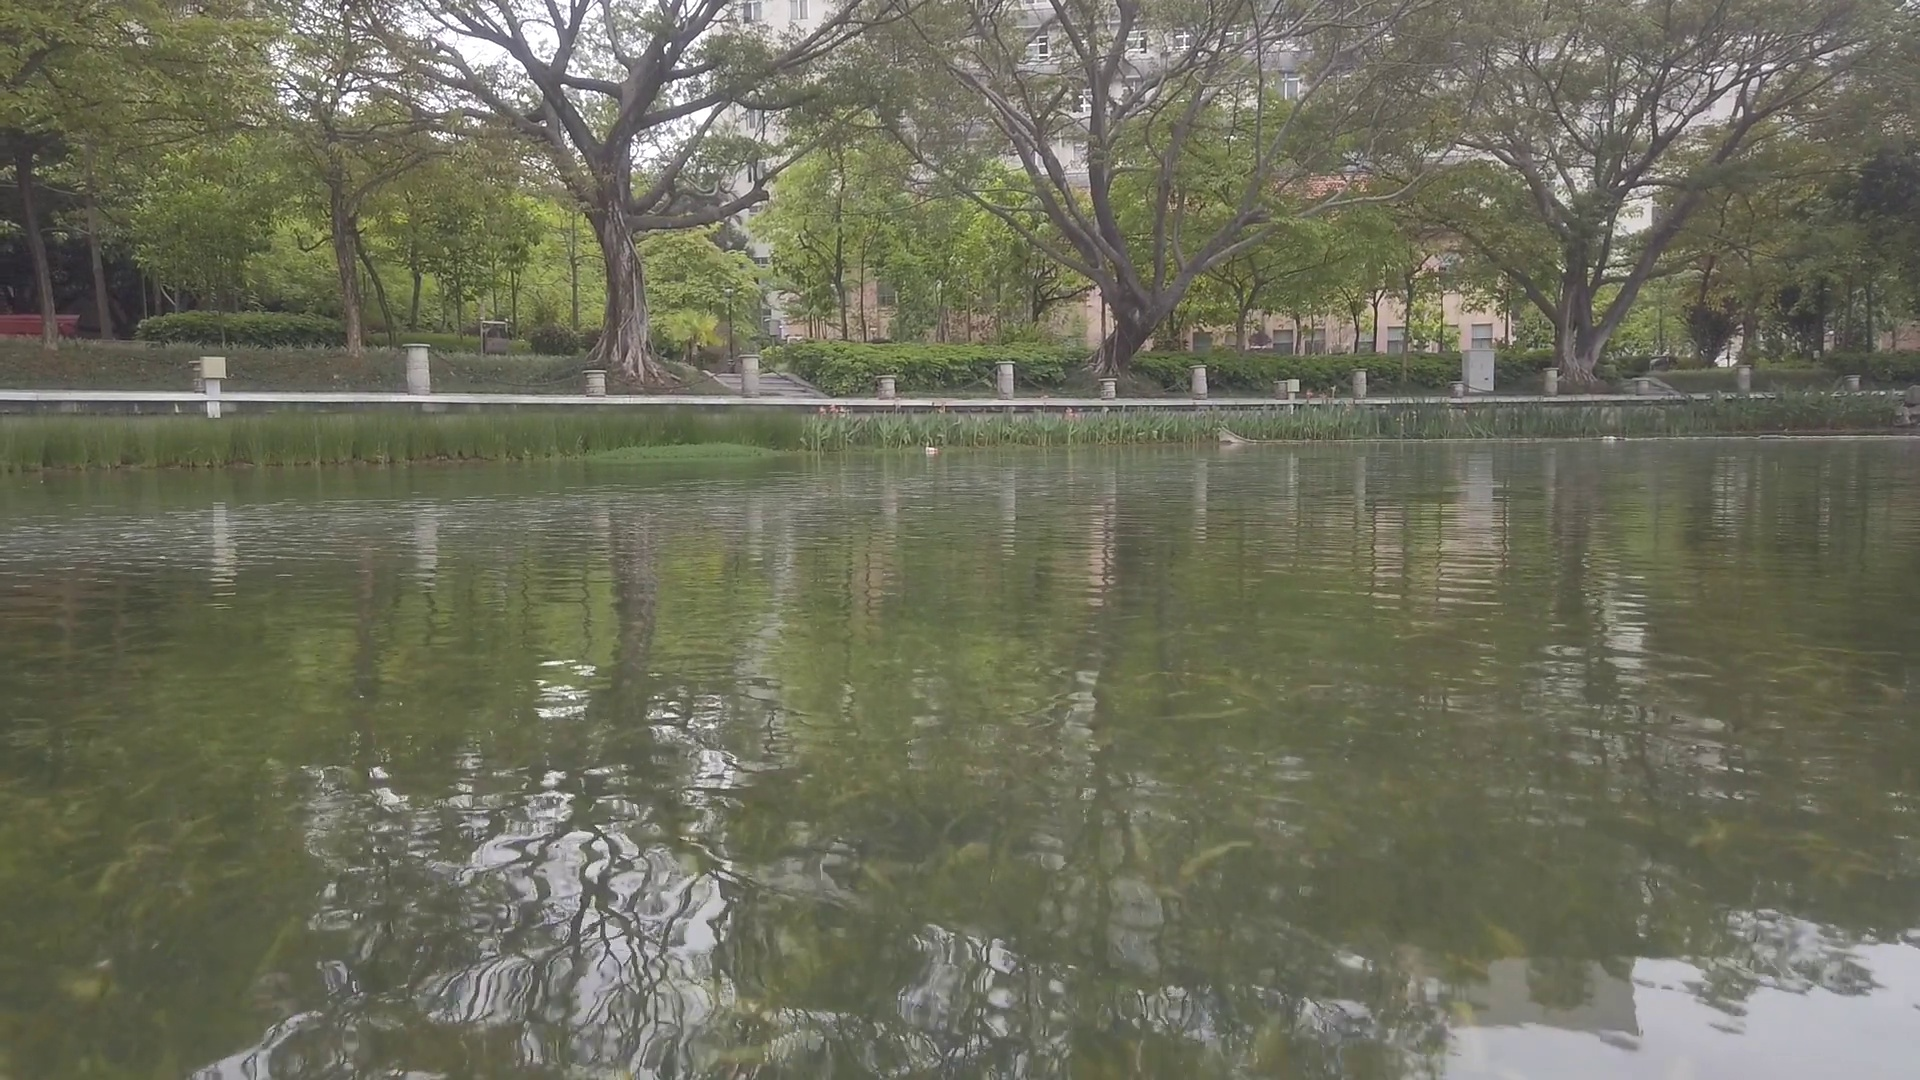bottle: (1604, 436, 1619, 443), (924, 447, 938, 454)
